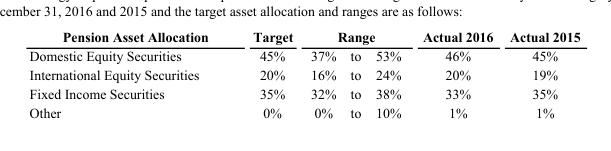table: (28, 28, 579, 119)
table column: (28, 28, 229, 119), (411, 28, 500, 119), (500, 28, 579, 119), (229, 28, 301, 119), (367, 28, 411, 119), (301, 28, 342, 119), (342, 28, 367, 119)
table column header: (28, 28, 579, 64)
table row: (28, 45, 579, 64), (28, 64, 579, 83), (28, 83, 579, 102), (28, 28, 579, 45), (28, 102, 579, 119)
table spanning cell: (28, 28, 229, 64), (411, 28, 500, 64), (500, 28, 579, 64), (229, 28, 301, 64), (301, 28, 411, 45)
